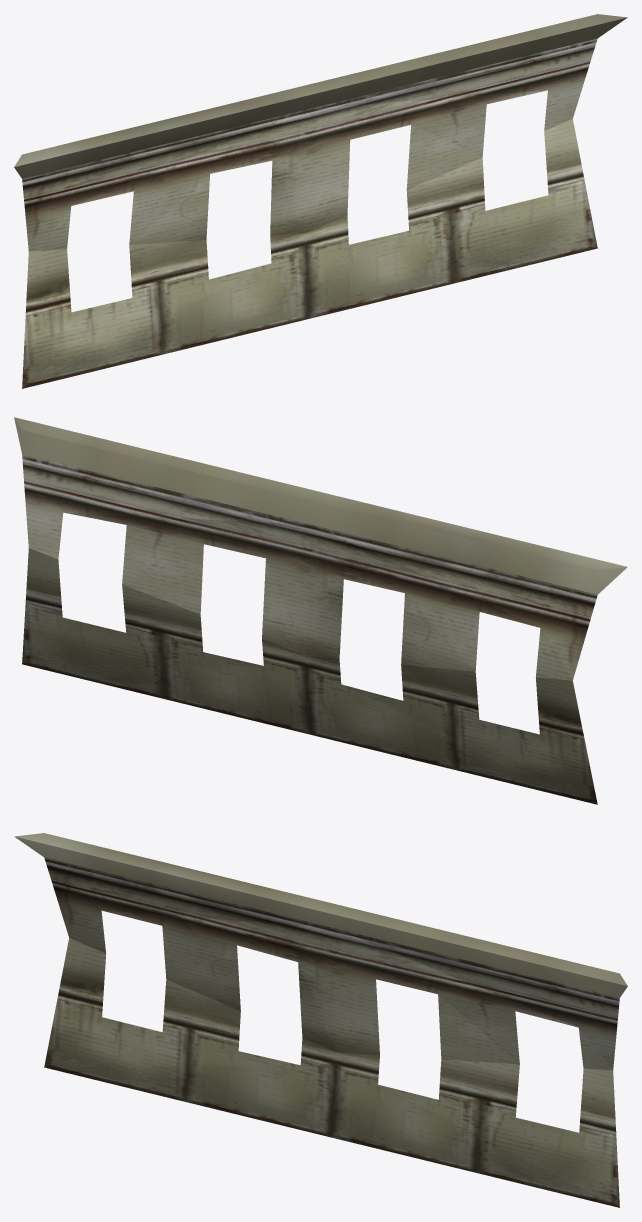
Rendered from W_A1_ffff [GelberMarmor2]_2165.glb.
3 views of the same model, one above another, from view 1: azimuth 30°, elevation 25°; view 2: azimuth 150°, elevation 25°; view 3: azimuth 330°, elevation 25° (orthographic).
Parts seen in each view (by area): view 1: polySurfaceShape728, polySurfaceShape1064; view 2: polySurfaceShape728, polySurfaceShape1064; view 3: polySurfaceShape728, polySurfaceShape1064.
Boxes of the visible parts, x1,y1,x2,y2 form: polySurfaceShape728: (22, 38, 597, 388); polySurfaceShape1064: (14, 14, 627, 178); polySurfaceShape728: (22, 454, 597, 804); polySurfaceShape1064: (14, 417, 627, 594); polySurfaceShape728: (44, 857, 619, 1207); polySurfaceShape1064: (14, 833, 627, 997).
Size of the model in its own units: 1.07 by 0.3891 by 0.0607.
2 materials, 2 textured.
